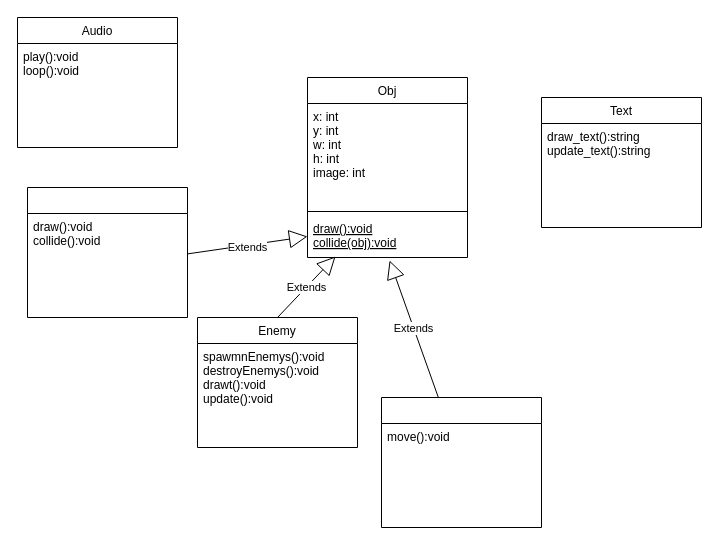
This 719x548 diagram has some shape labels left out. The shapes that lost their labels are listed below. From the top down, each one's box as (x1, y1, x2, y2) in pixels, then its label:
(26, 186, 188, 318): Hero
(380, 396, 542, 528): Shoot
